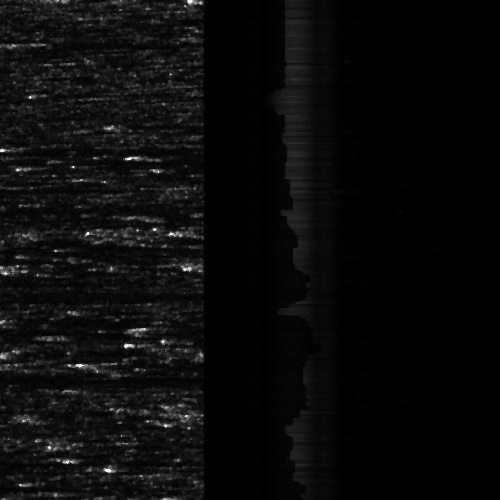object: (0, 38, 65, 45), (0, 144, 11, 153)
shadow: (0, 370, 120, 387), (0, 286, 110, 303), (0, 202, 157, 213), (0, 379, 116, 390), (0, 213, 97, 226), (28, 38, 205, 45), (0, 144, 61, 153), (0, 65, 31, 70)
